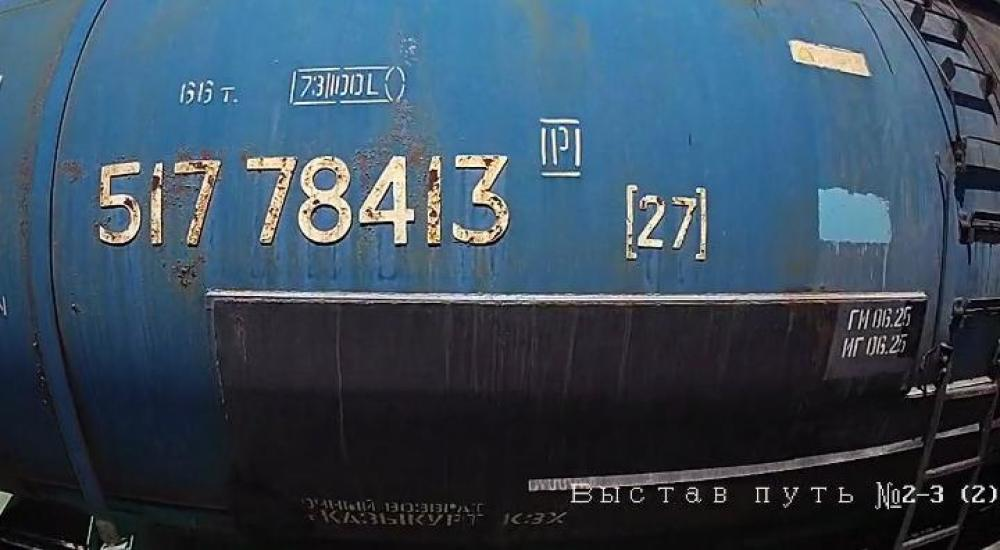Wagon-number: (87, 148, 516, 255)
